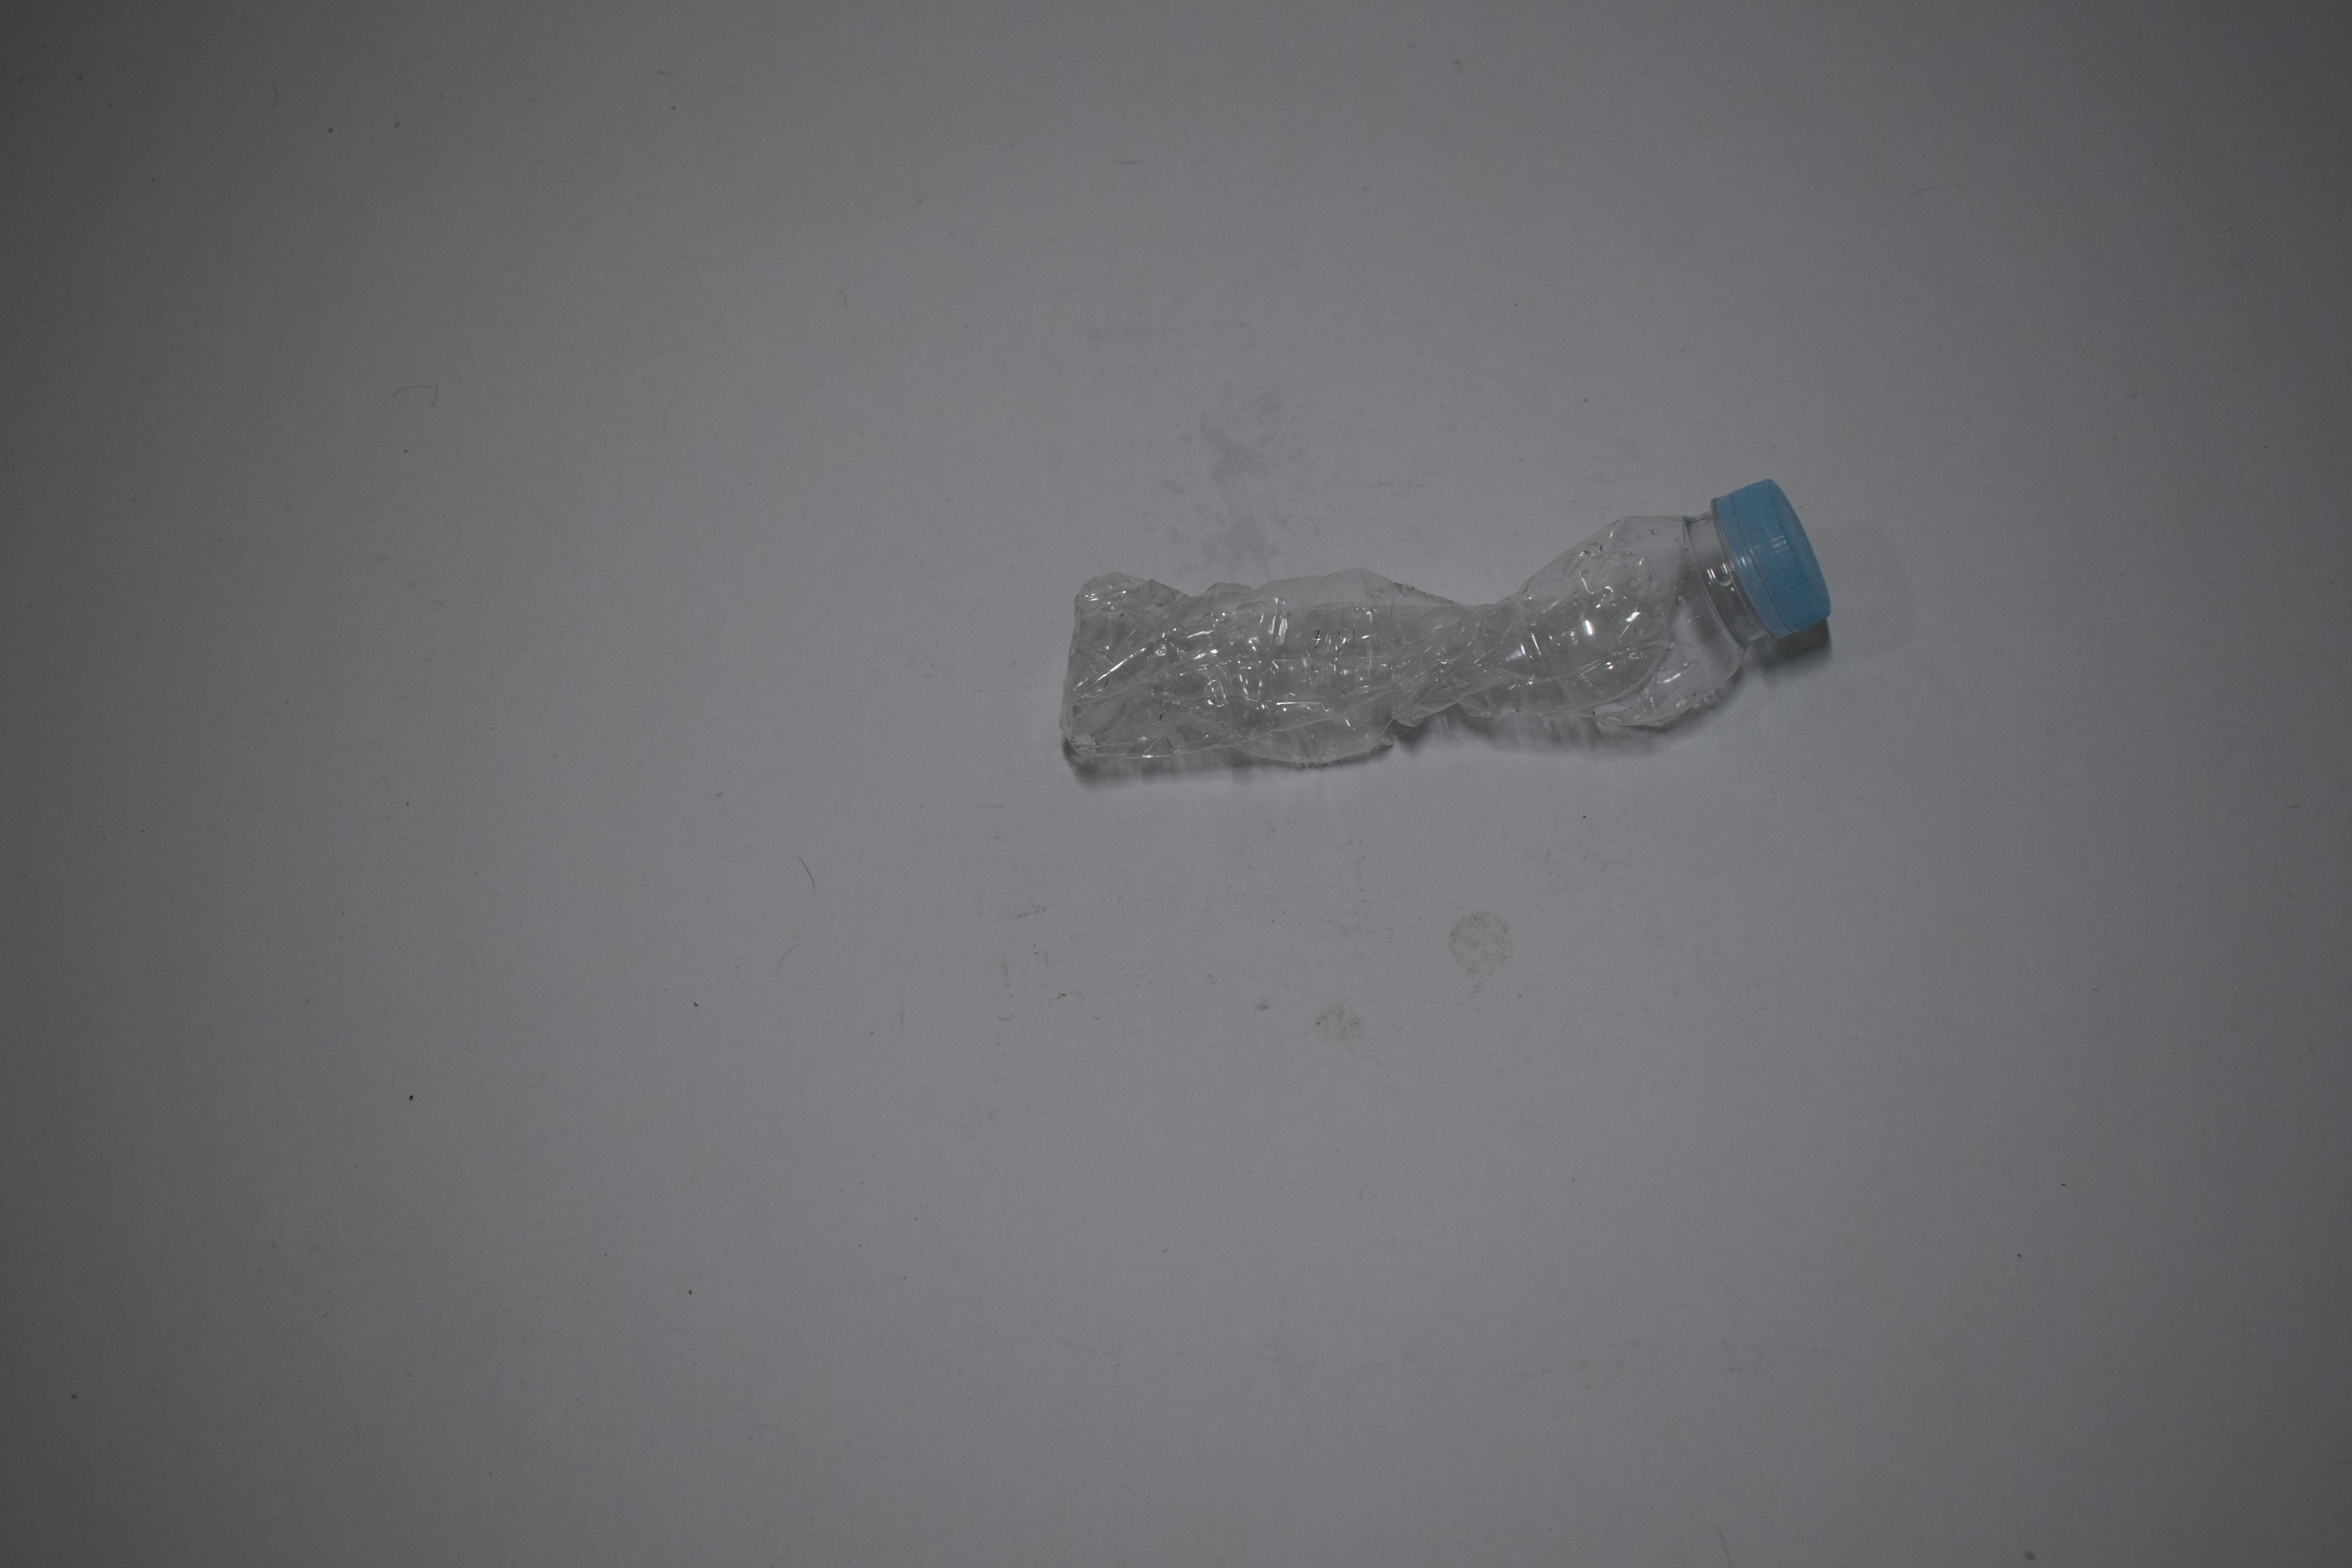bottle: (1043, 471, 1827, 788)
